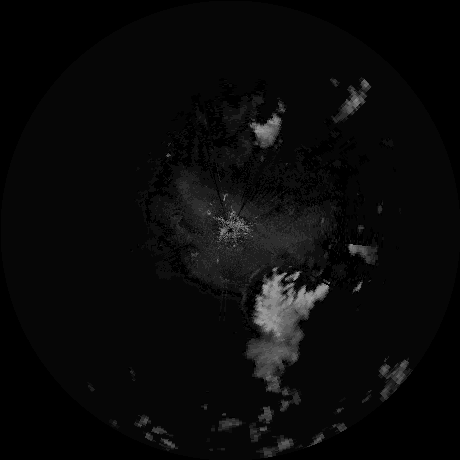frontgust: (239, 265, 265, 310)
